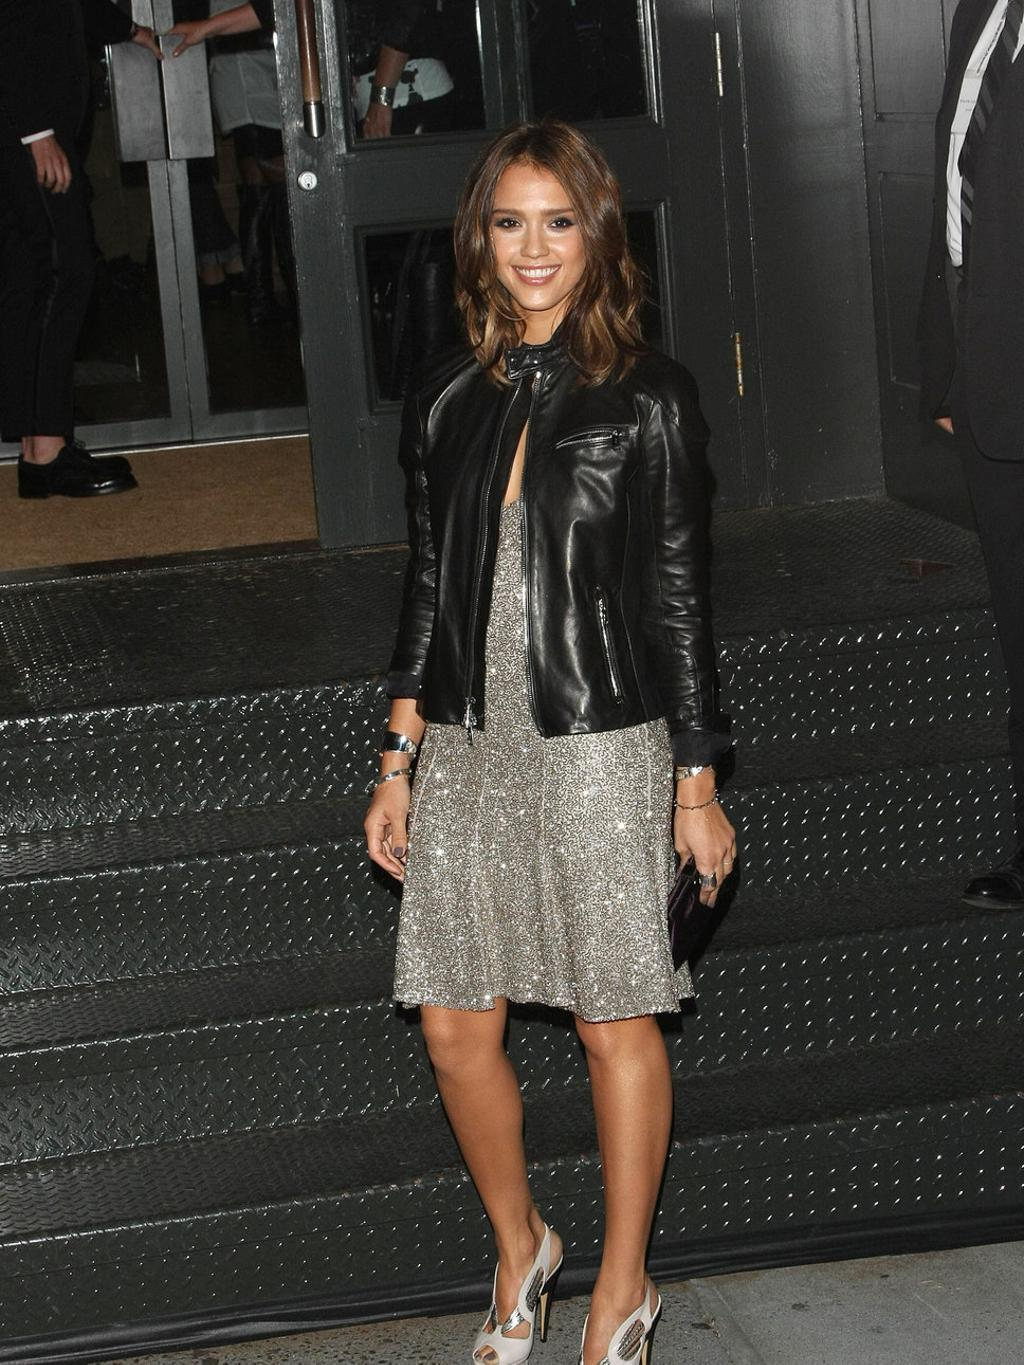face: (473, 161, 596, 308)
